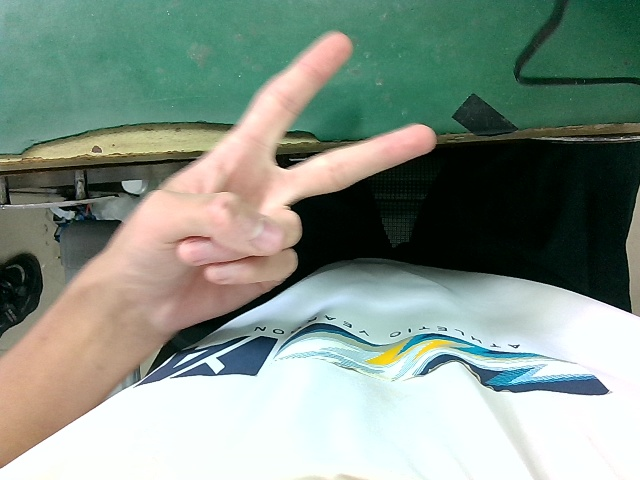scissor: (89, 12, 439, 360)
